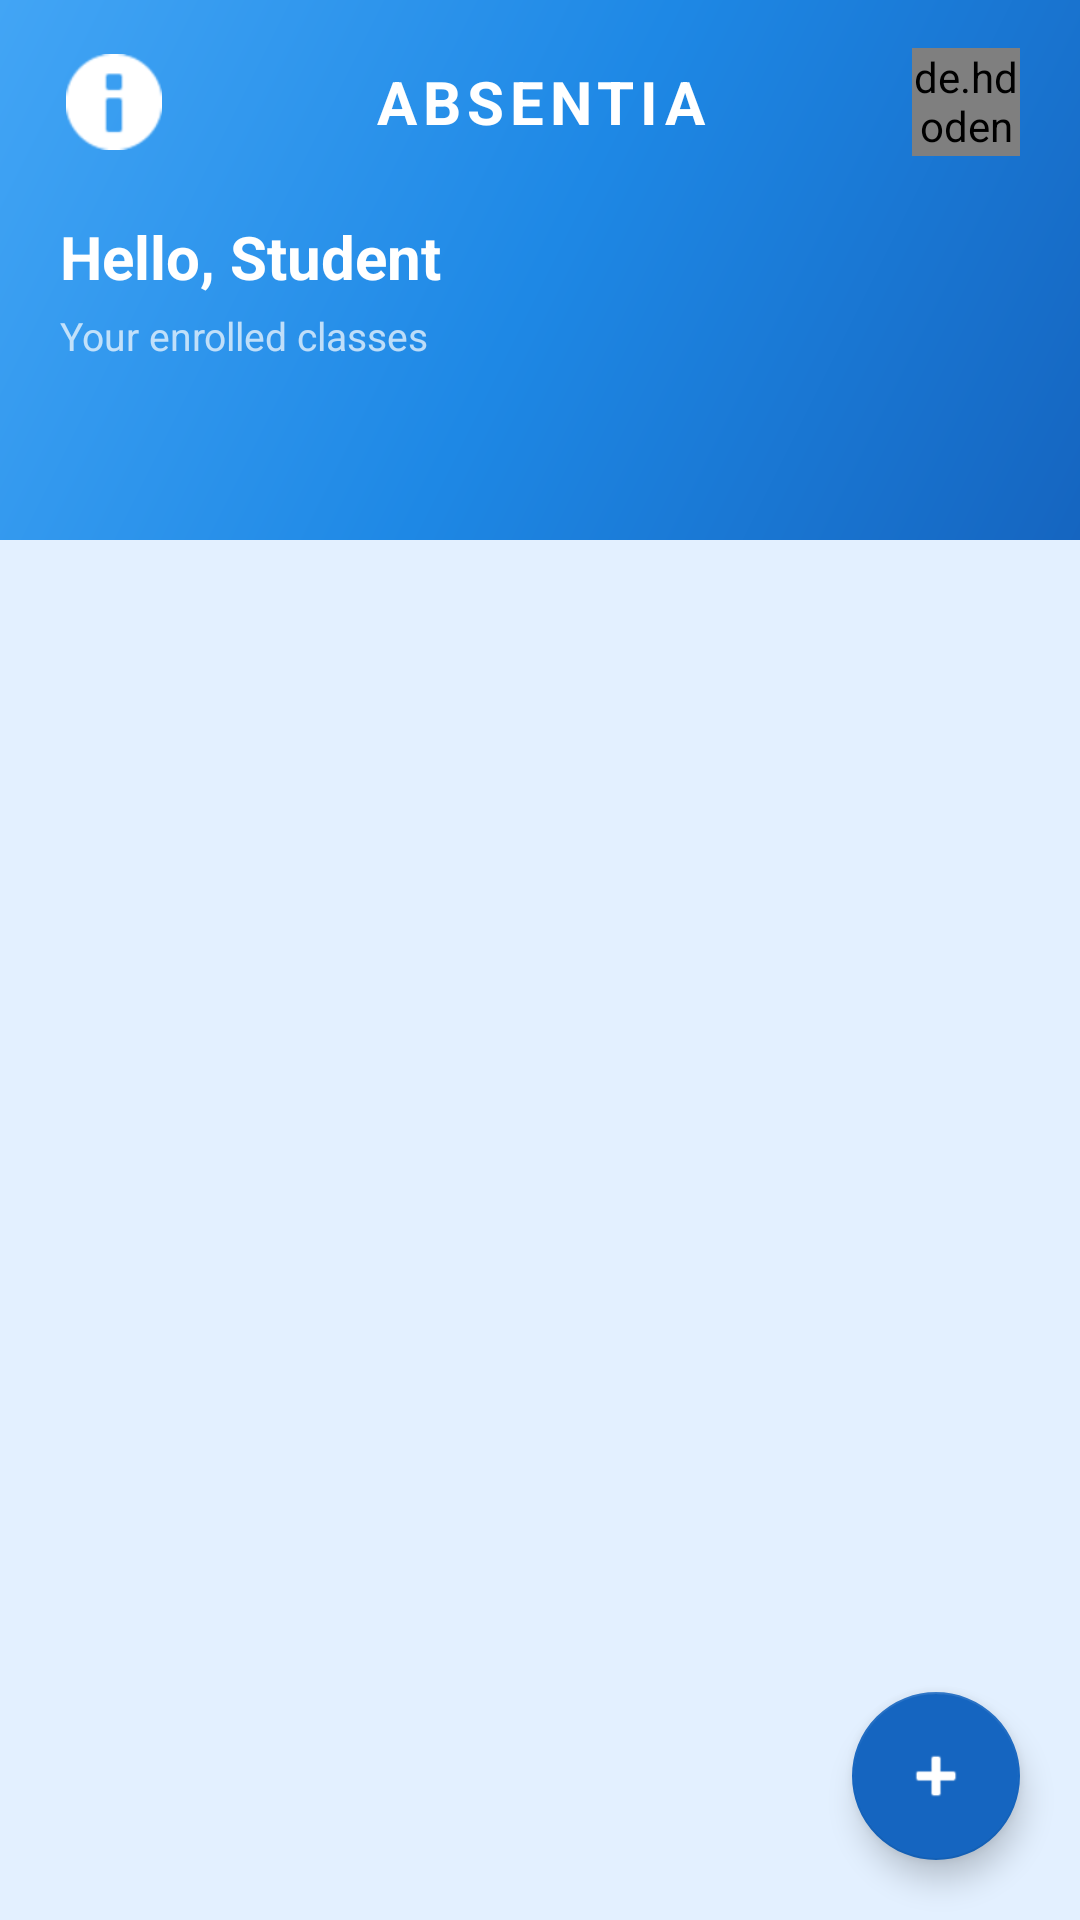

Where icons sit on this 1080px x 1920px app screen, as (x1, y1, x2, y2):
add: (852, 1692, 1020, 1860)
Info: (66, 54, 162, 150)
